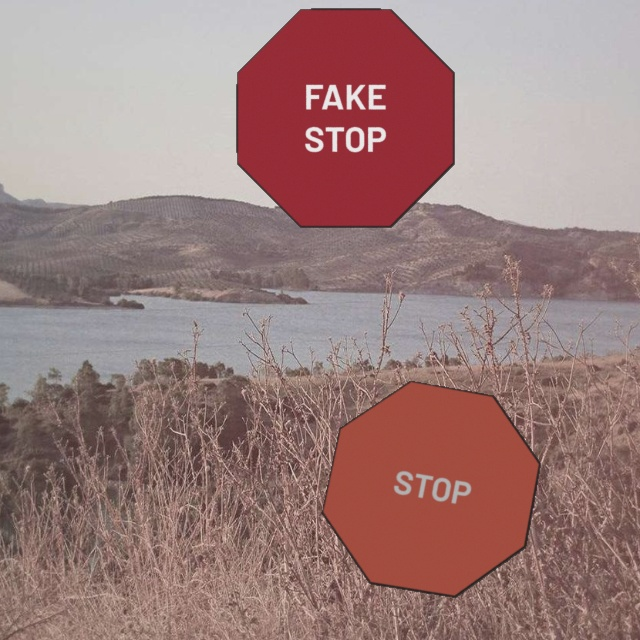FAKE_STOP: (236, 8, 455, 228)
STOP: (321, 380, 541, 598)
